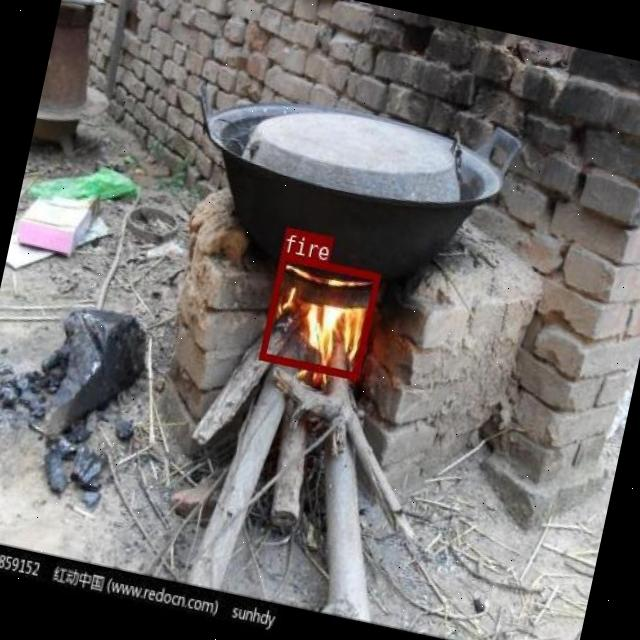fire: (258, 251, 379, 378)
